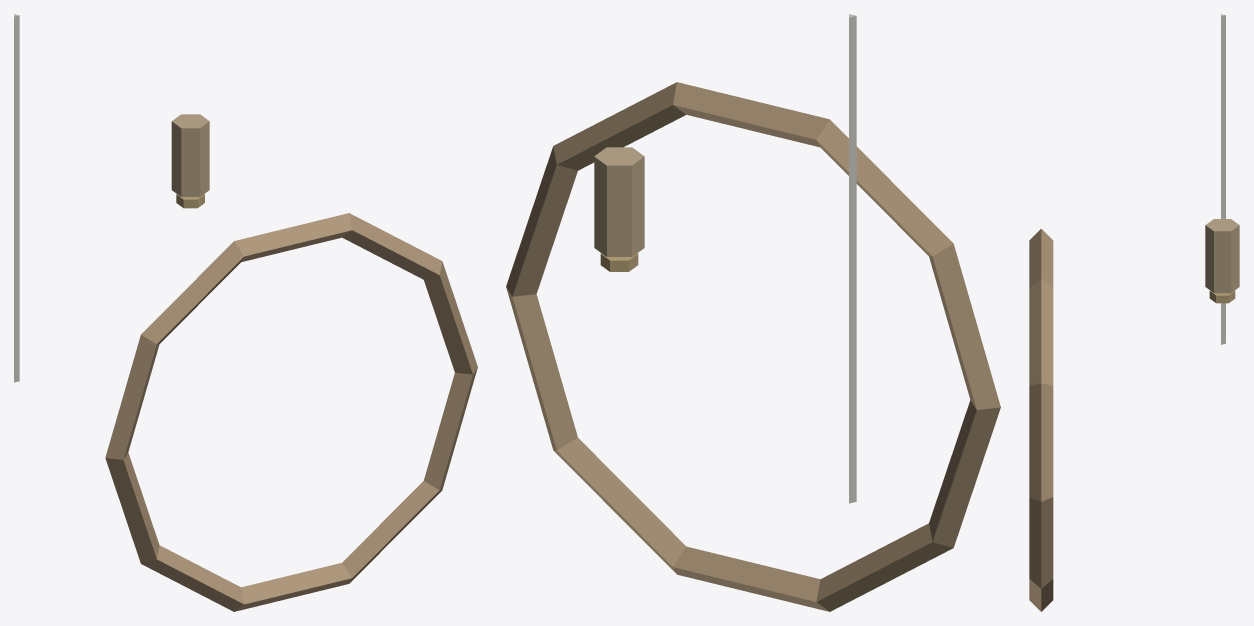
The model's file is recurve.glb.
3 views of the same model, side by side, from view 1: azimuth 30°, elevation 25°; view 2: azimuth 150°, elevation 25°; view 3: azimuth 270°, elevation 25° (orthographic). The views are drawn at different scales.
Parts seen in each view (by area): view 1: recurve; view 2: recurve; view 3: recurve.
Boxes of the visible parts, x1,y1,x2,y2 form: recurve: (14, 14, 477, 611); recurve: (506, 14, 1000, 611); recurve: (1029, 14, 1239, 611).
Size of the model in its own units: 0.906 by 1.28 by 0.493.
